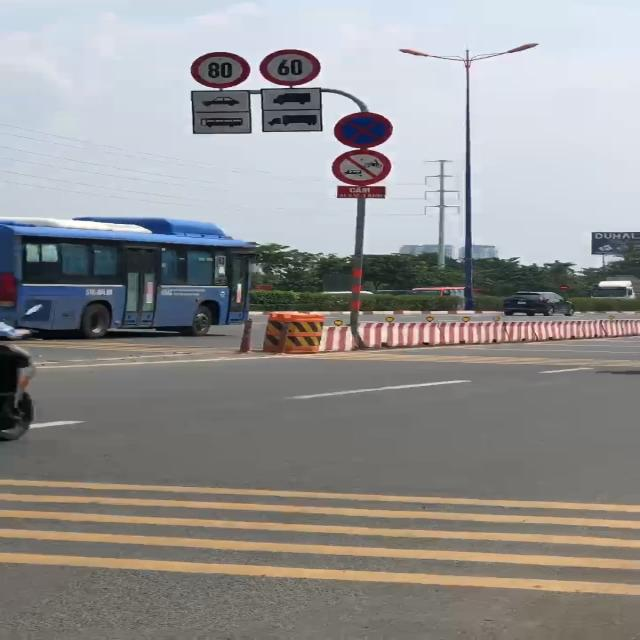Bien bao cam dung xe va do xe: (332, 108, 398, 150)
Bien bao toc do toi da cho phep: (254, 48, 327, 88), (189, 52, 253, 90)
